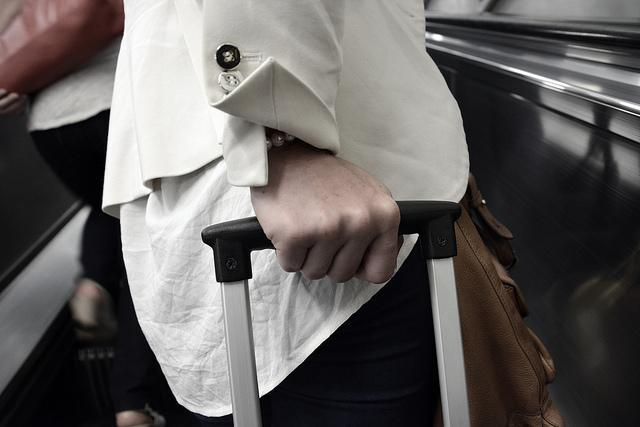hand: (249, 145, 403, 284)
